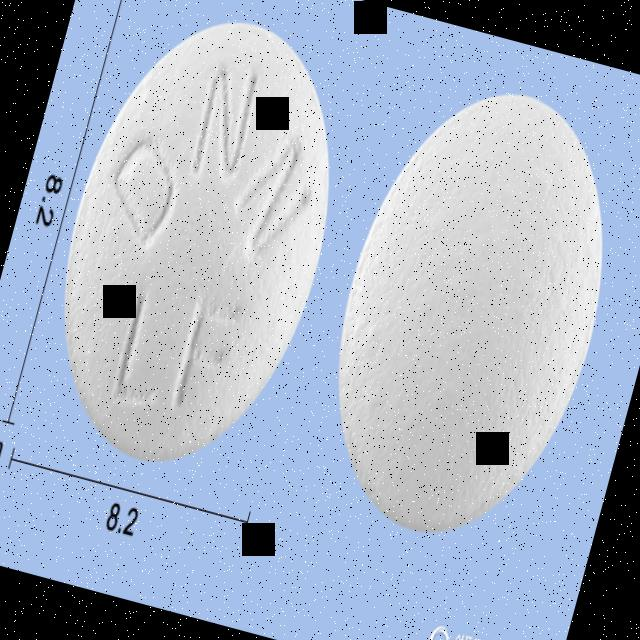Levoflcin: (18, 0, 375, 493)
